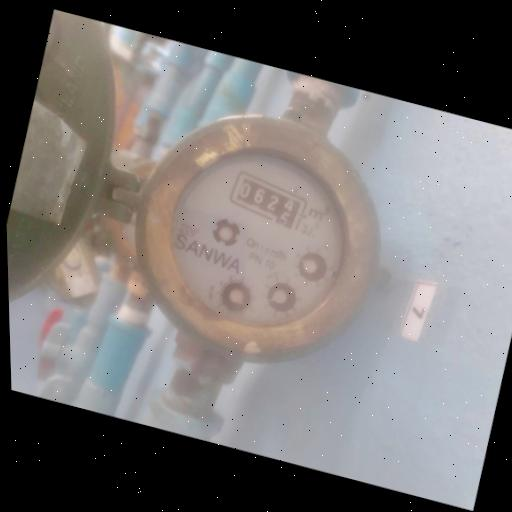0: (235, 175, 257, 204)
2: (261, 187, 286, 217)
4: (271, 193, 303, 230)
6: (245, 181, 271, 210)
border_water_meter_number: (224, 168, 313, 234)
